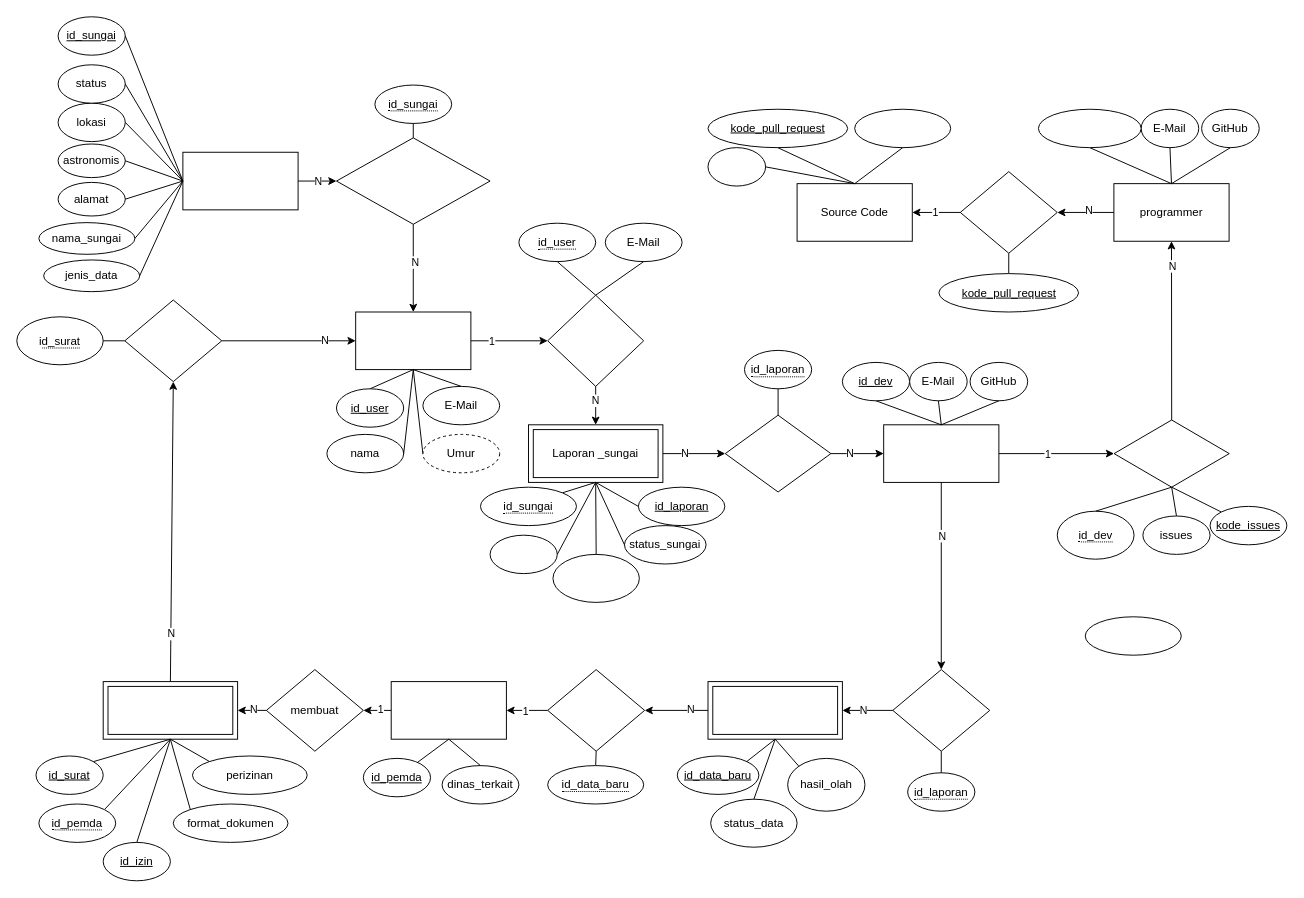
Some shapes in this 1304 by 898 pixel diagram are drawn without their labels. The shapes that lost their labels are listed below. From the top down, each one's centre as x and y in pixels, then its label:
(x=902, y=128): tanggal_waktu
(x=1089, y=128): id_programmer
(x=240, y=180): sungai
(x=413, y=180): pengumpulan data
(x=736, y=166): id_code
(x=1008, y=212): Maintenance
(x=173, y=340): diterima
(x=413, y=340): warga_sekitar
(x=595, y=340): melaporkan
(x=777, y=453): menerima
(x=941, y=453): developer
(x=1171, y=453): Menugaskan
(x=523, y=554): attachment
(x=595, y=577): tanggal_lapor
(x=1132, y=635): Attribute
(x=170, y=710): Surat_Penyuluhan
(x=448, y=710): pemda
(x=596, y=710): mengirim
(x=774, y=710): Data_Baru
(x=941, y=710): mengolah
